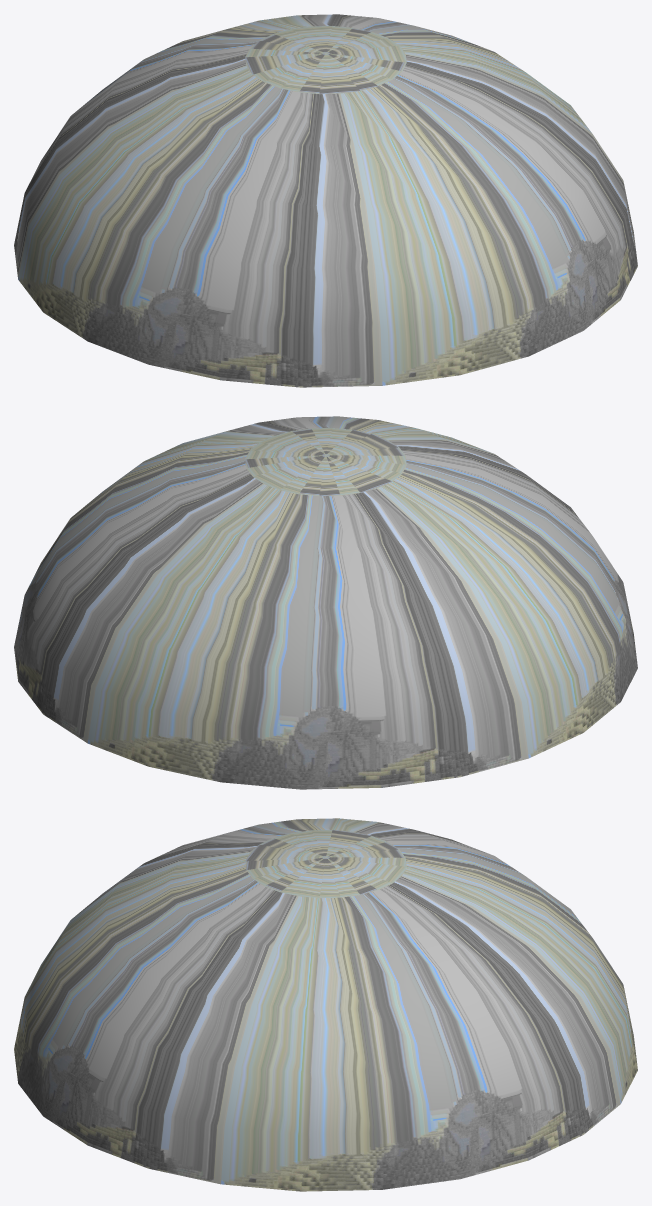
Rendered from sky_01 #1104771.fbx.
3 views of the same model, one above another, from view 1: azimuth 30°, elevation 25°; view 2: azimuth 150°, elevation 25°; view 3: azimuth 270°, elevation 25° (orthographic).
Visible parts, largest first — view 1: sky_01; view 2: sky_01; view 3: sky_01.
Boxes of the visible parts, left/top/right/bottom form: sky_01: left=14, top=14, right=637, bottom=387; sky_01: left=14, top=416, right=637, bottom=789; sky_01: left=14, top=818, right=637, bottom=1191.
Bounding box in the file's own units: 2099 × 752 × 2099.
